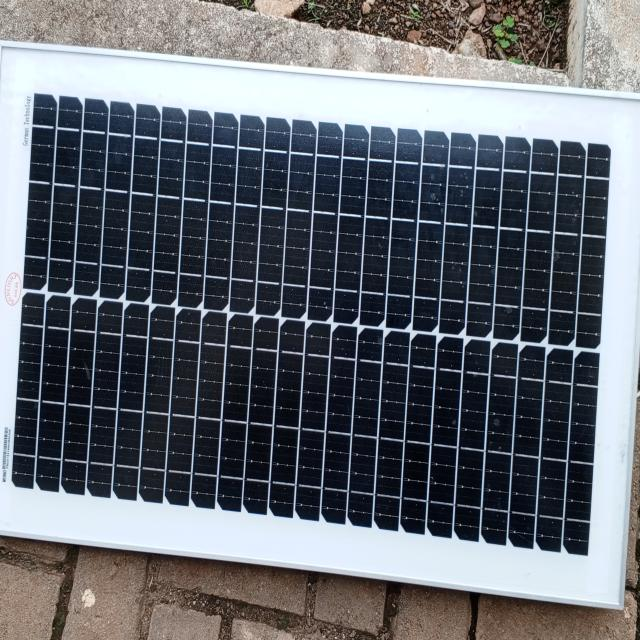Clean: (4, 133, 613, 530)
